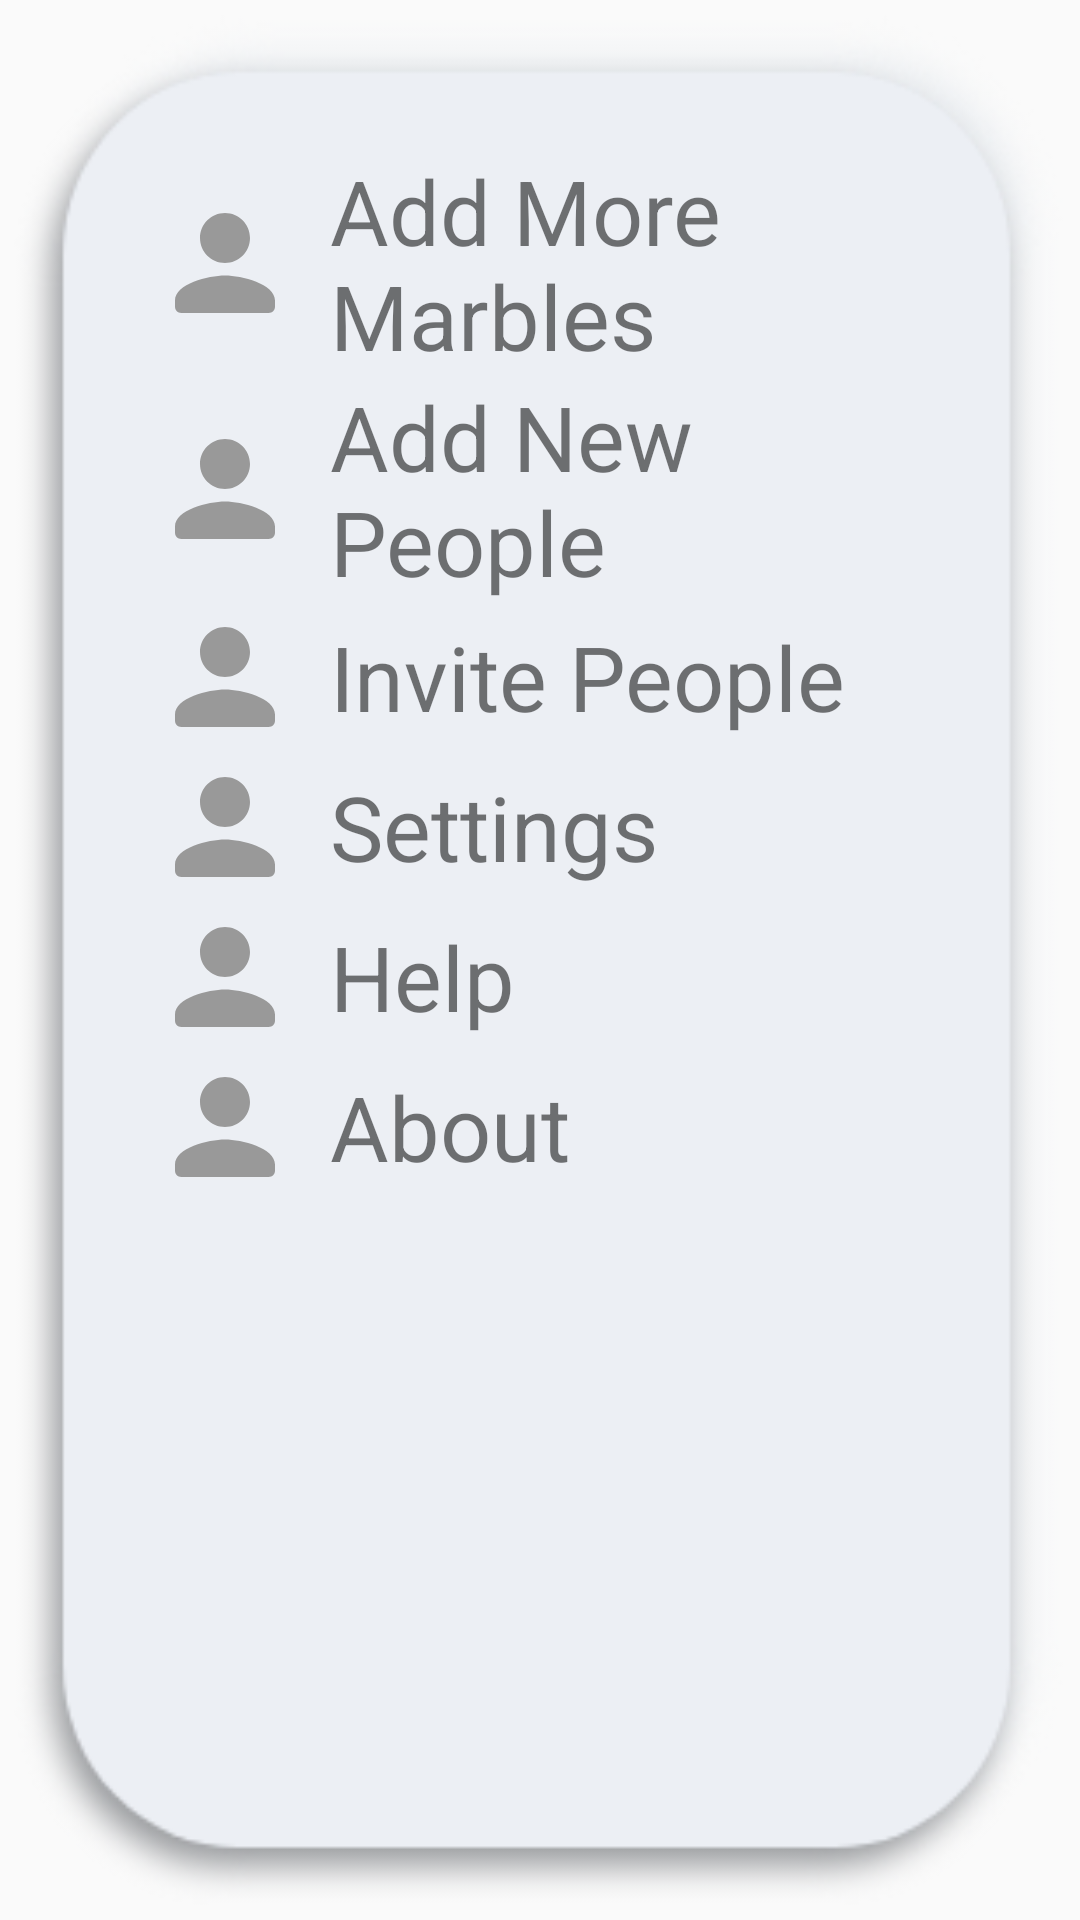

Where to tap for icons on this 1080w x 1920h app screen, as [x,y]:
person: [225,263], [225,489], [225,677], [225,827], [225,977], [225,1127]
